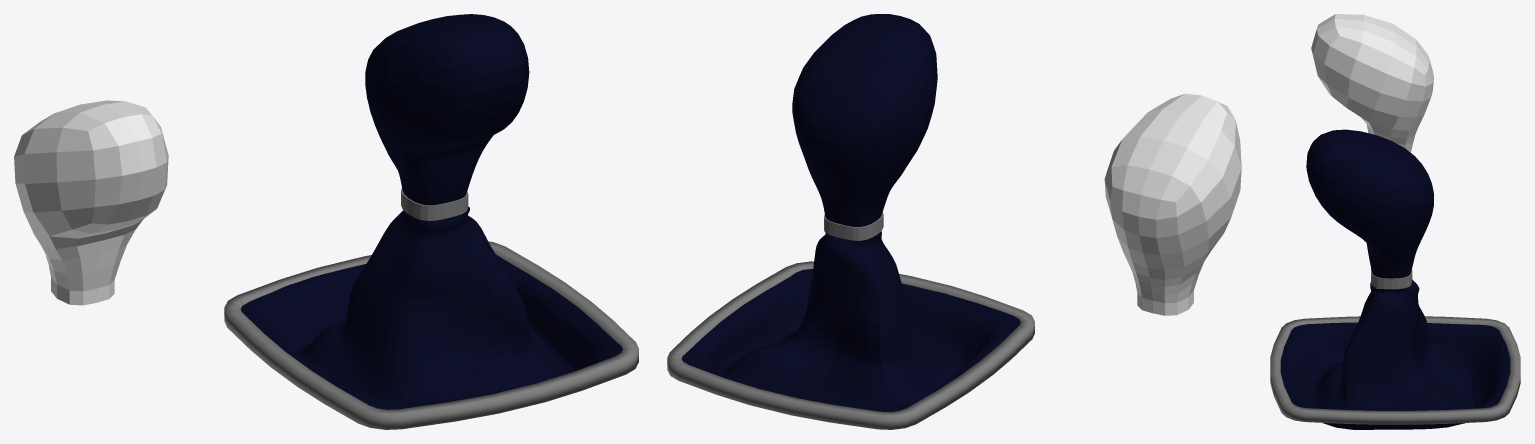
Rendered from EricGears.fbx.
The picture shows the model from 3 angles, left to right: view 1: azimuth 30°, elevation 25°; view 2: azimuth 150°, elevation 25°; view 3: azimuth 270°, elevation 25°; orthographic projection. The views are drawn at different scales.
Visible parts, largest first — view 1: Cube.010, Cube.007, Cube.002, Cube.011, Cube.008, Cube.003; view 2: Cube.010, Cube.007, Cube.002, Cube.011, Cube.008, Cube.003; view 3: Cube.010, Cube.007, Cube.002, Cube.011, Cube.008.
Boxes of the visible parts, x1,y1,x2,y2 form: Cube.010: [240, 206, 622, 409]; Cube.007: [365, 14, 529, 205]; Cube.002: [14, 100, 168, 291]; Cube.011: [224, 241, 638, 429]; Cube.008: [401, 188, 468, 220]; Cube.003: [51, 277, 114, 305]; Cube.010: [681, 231, 1020, 411]; Cube.007: [792, 14, 937, 226]; Cube.002: [1104, 93, 1241, 303]; Cube.011: [667, 261, 1034, 429]; Cube.008: [824, 212, 883, 240]; Cube.003: [1137, 291, 1193, 315]; Cube.010: [1280, 279, 1510, 429]; Cube.007: [1306, 129, 1433, 278]; Cube.002: [1311, 14, 1433, 152]; Cube.011: [1270, 316, 1520, 424]; Cube.008: [1371, 268, 1412, 289].
Bounding box in the file's own units: 463 × 292 × 257.
